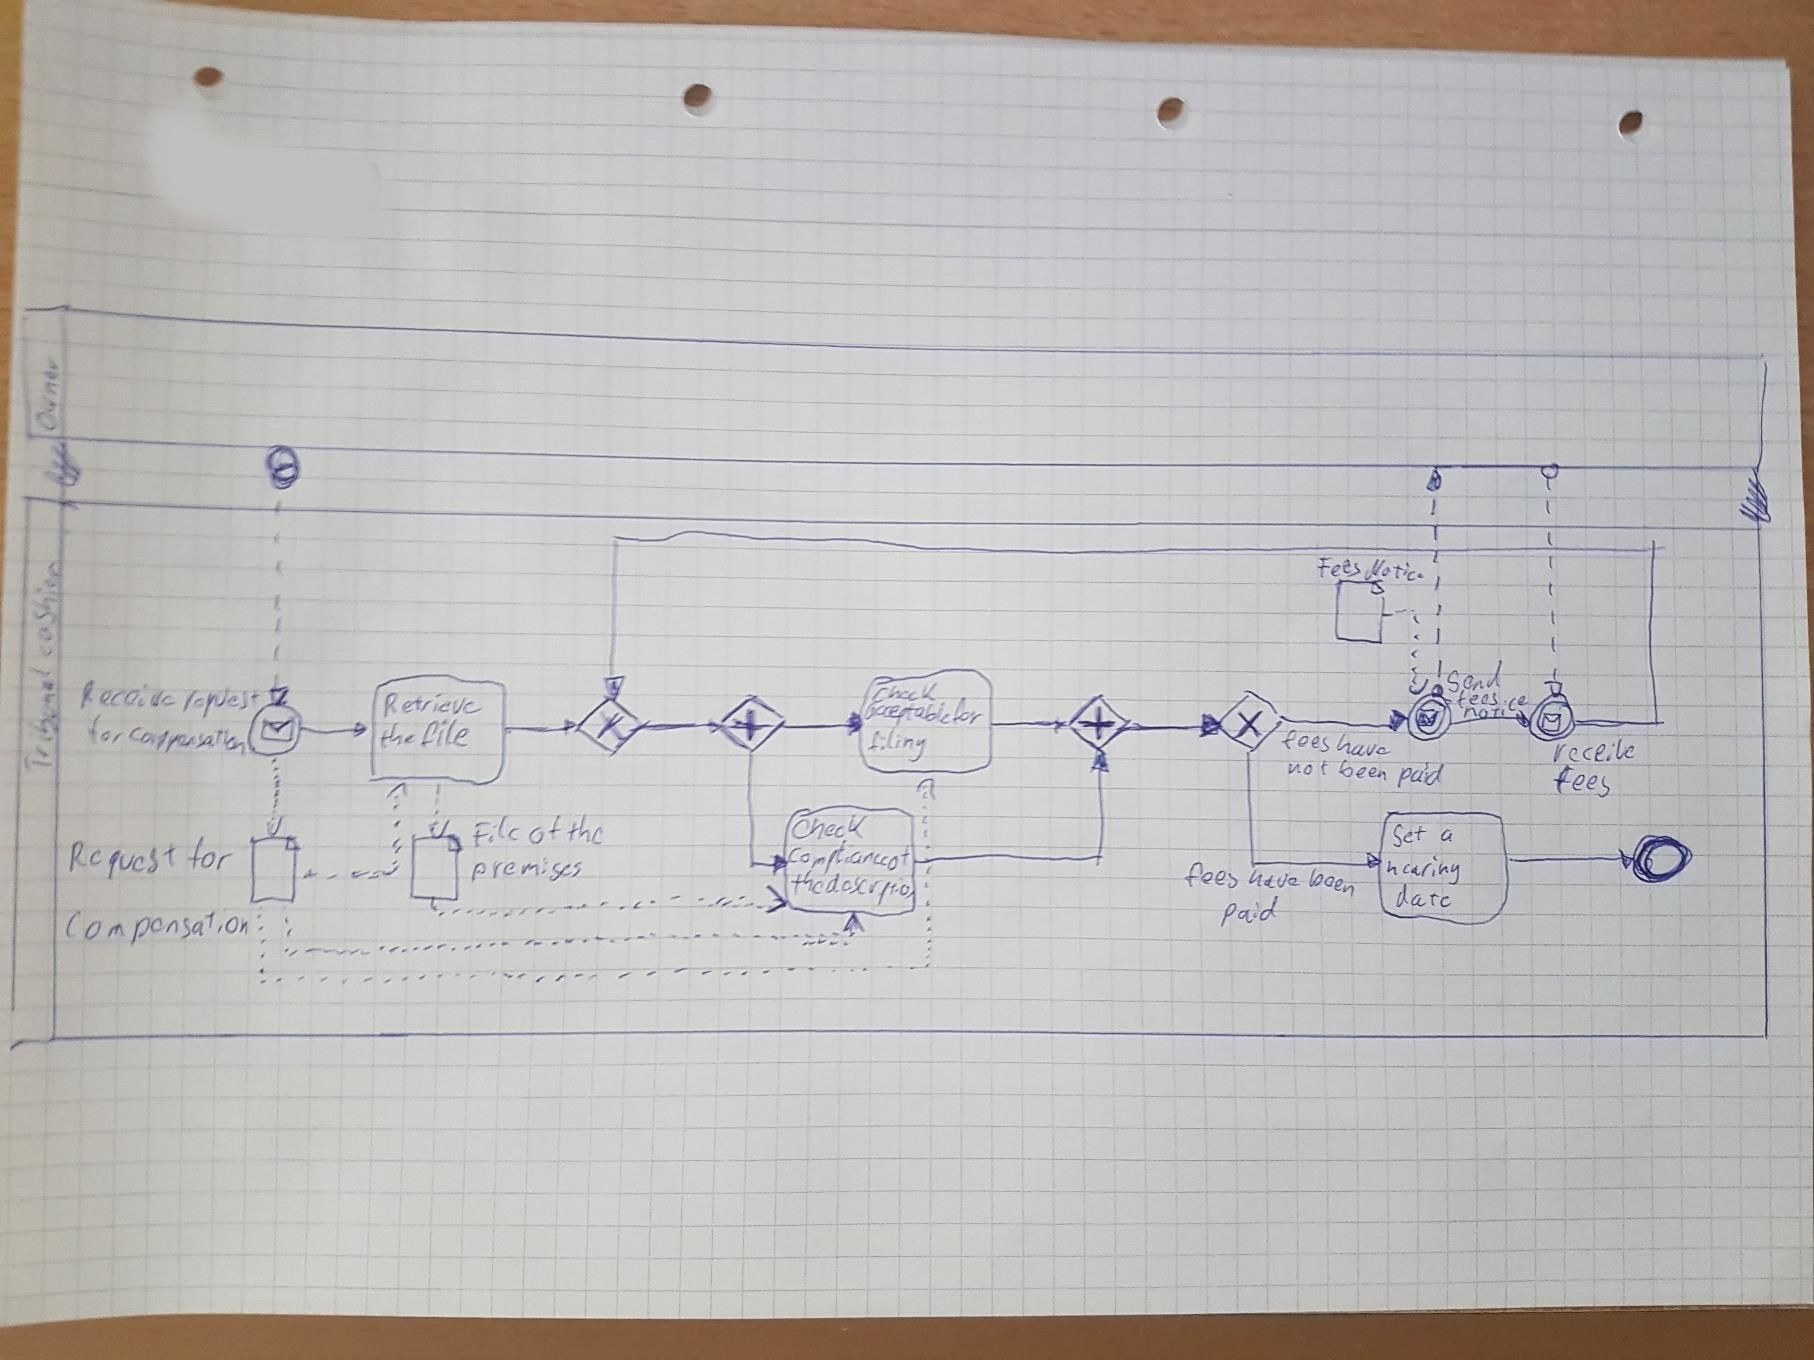Check: (784, 810, 871, 846)
Compensation: (59, 904, 251, 951)
Compliance: (784, 837, 891, 877)
Fees: (1313, 554, 1364, 583)
File: (466, 811, 526, 851)
Iribonal: (19, 663, 63, 771)
Notice: (1361, 557, 1427, 586)
Owner: (29, 351, 66, 434)
Receive: (76, 679, 179, 714)
Request: (63, 837, 179, 886)
Retrieve: (376, 689, 484, 720)
Send: (1445, 660, 1505, 694)
Set: (1387, 821, 1428, 851)
a: (1435, 824, 1455, 847)
acceptable: (857, 697, 950, 731)
been: (1303, 866, 1357, 901), (1334, 756, 1390, 786)
cashier: (27, 559, 64, 663)
check: (866, 680, 940, 706)
compensation: (124, 723, 247, 761)
date: (1390, 880, 1455, 911)
description: (821, 867, 917, 911)
fees: (1548, 761, 1614, 803), (1181, 859, 1241, 893), (1277, 726, 1333, 756), (1454, 690, 1500, 710)
file: (416, 719, 471, 753)
filing: (861, 724, 928, 766)
for: (181, 831, 236, 874), (81, 711, 124, 751), (948, 694, 986, 729)
have: (1331, 730, 1394, 761), (1243, 866, 1303, 891)
hearing: (1383, 854, 1463, 890)
not: (1283, 757, 1333, 779)
notice: (1461, 694, 1530, 720)
of: (521, 811, 563, 849), (883, 839, 913, 873)
paid: (1213, 893, 1283, 931), (1391, 760, 1448, 794)
premises: (464, 854, 587, 887)
receive: (1547, 736, 1640, 769)
request: (176, 681, 264, 723)
the: (561, 811, 606, 849), (374, 721, 419, 751), (786, 867, 827, 899)
